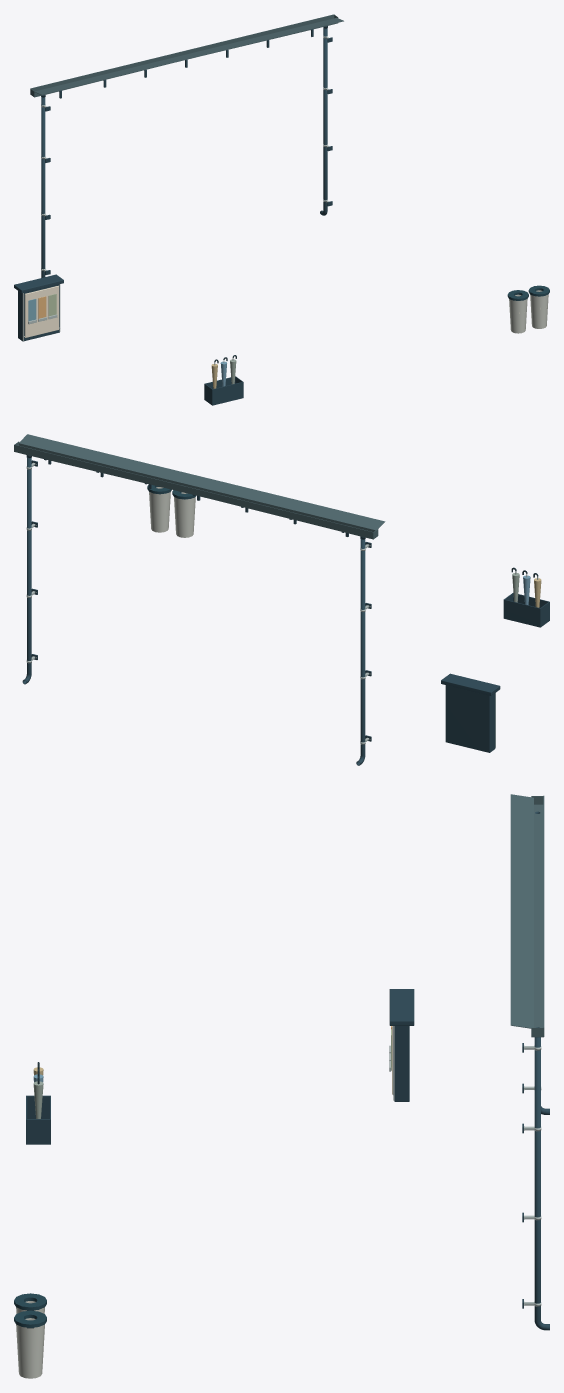
File: entrance.glb
The picture shows the model from 3 angles, top to bottom: view 1: azimuth 30°, elevation 25°; view 2: azimuth 150°, elevation 25°; view 3: azimuth 270°, elevation 25°; orthographic projection. The views are drawn at different scales.
Visible parts, largest first — view 1: Bin lid grip.004, Final | Gutter sealed end plate.002, Final | Continuous sloped rear gutter.001, Recycling label.002, Existing bin.002, Existing bin.003; view 2: Bin lid grip.004, Final | Gutter sealed end plate.002, Final | Continuous sloped rear gutter.001, Existing bin.003, Existing bin.002; view 3: Final | Gutter sealed end plate.002, Bin lid grip.004, Final | Continuous sloped rear gutter.001, Existing bin.003.
Boxes of the visible parts, left/top/right/bottom form: Bin lid grip.004: left=14, top=26, right=531, bottom=405; Final | Gutter sealed end plate.002: left=30, top=15, right=343, bottom=97; Final | Continuous sloped rear gutter.001: left=30, top=14, right=337, bottom=97; Recycling label.002: left=24, top=285, right=546, bottom=337; Existing bin.002: left=509, top=294, right=527, bottom=333; Existing bin.003: left=530, top=290, right=548, bottom=328; Bin lid grip.004: left=22, top=455, right=549, bottom=765; Final | Gutter sealed end plate.002: left=15, top=434, right=385, bottom=539; Final | Continuous sloped rear gutter.001: left=14, top=443, right=374, bottom=539; Existing bin.003: left=149, top=487, right=170, bottom=532; Existing bin.002: left=174, top=492, right=195, bottom=537; Final | Gutter sealed end plate.002: left=510, top=794, right=543, bottom=1037; Bin lid grip.004: left=26, top=811, right=549, bottom=1330; Final | Continuous sloped rear gutter.001: left=531, top=795, right=544, bottom=1036; Existing bin.003: left=16, top=1318, right=44, bottom=1378.
Bounding box in the file's own units: 12.12 × 5.79 × 8.73.
